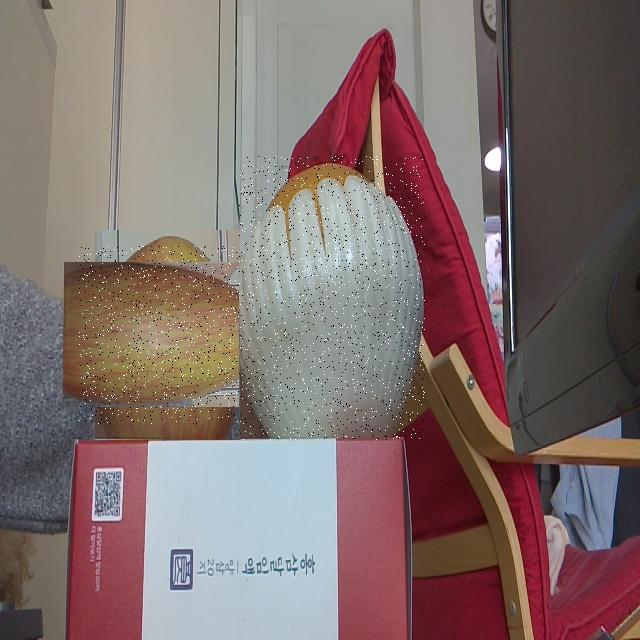apple: (79, 246, 256, 424)
pear: (239, 157, 425, 440)
